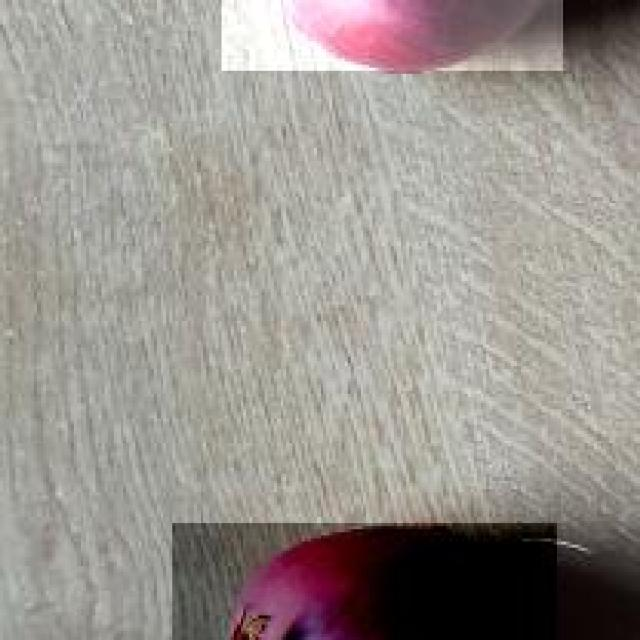onion: (169, 520, 557, 640), (215, 0, 560, 68)
